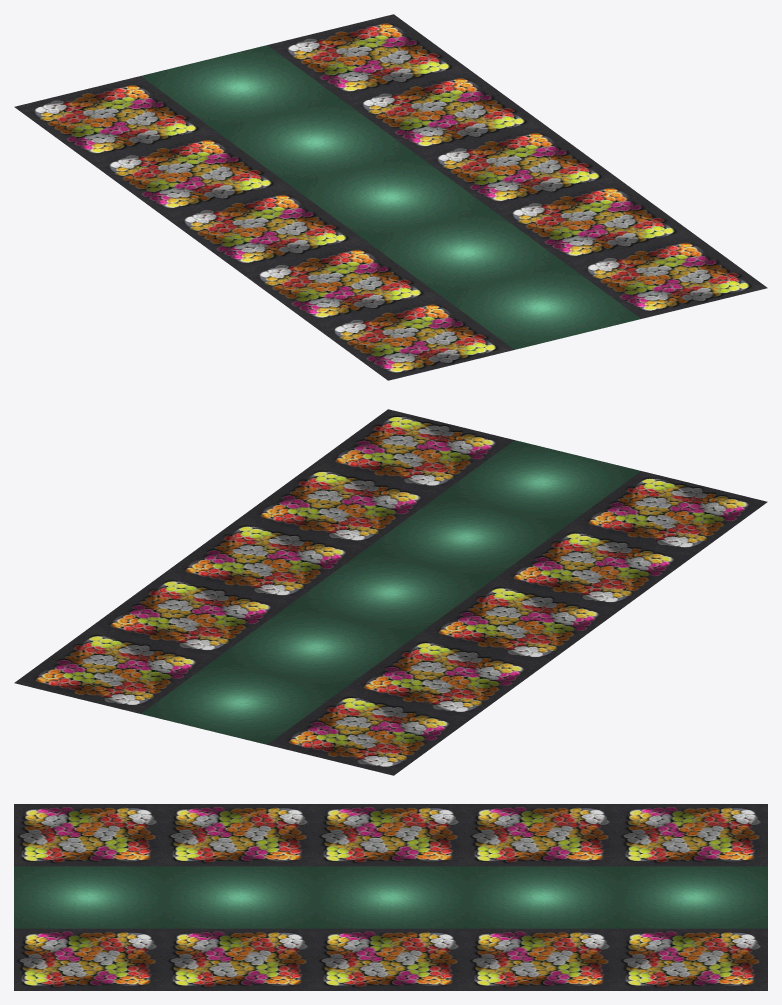
3 views of the same model, one above another, from view 1: azimuth 30°, elevation 25°; view 2: azimuth 150°, elevation 25°; view 3: azimuth 270°, elevation 25° (orthographic).
Visible parts, largest first — view 1: Rectangle01; view 2: Rectangle01; view 3: Rectangle01.
Part boxes in pixels (x1,y1,x2,y2): Rectangle01: [14, 14, 767, 380]; Rectangle01: [14, 409, 767, 775]; Rectangle01: [14, 804, 767, 990].
Size of the model in its own units: 1580 by 0 by 2696.
Materials: 2 (2 with a texture image).
